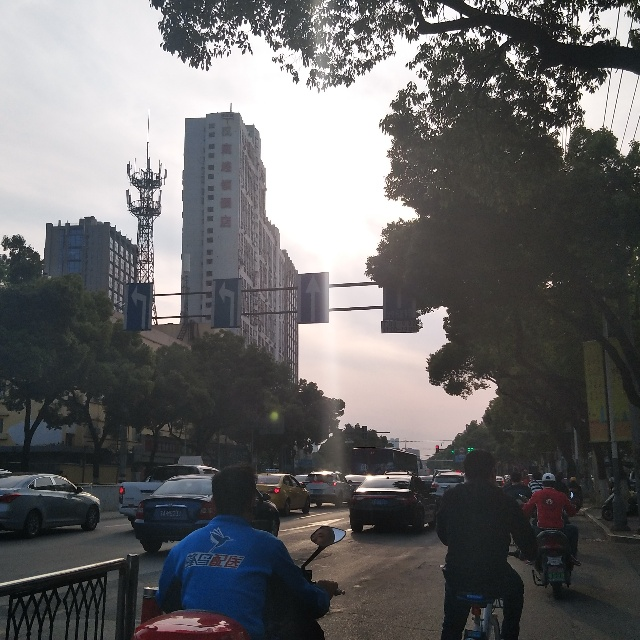left: (123, 279, 150, 330), (216, 275, 239, 325)
straight: (300, 273, 329, 320)
